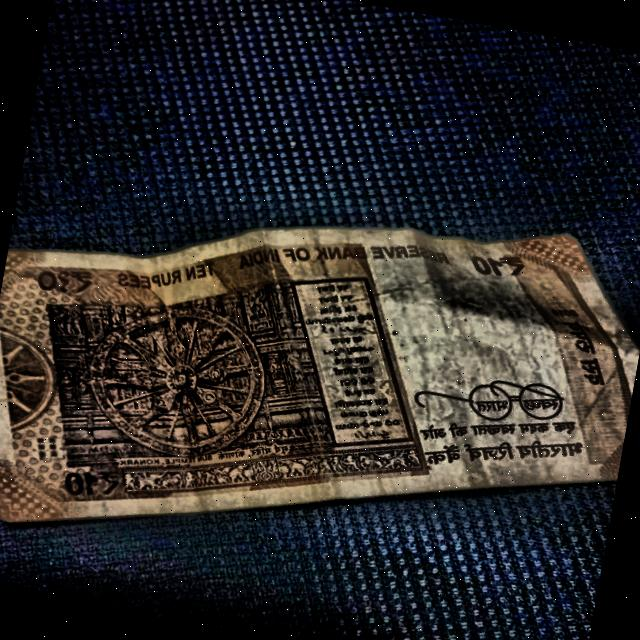-10-: (0, 69, 640, 630)
